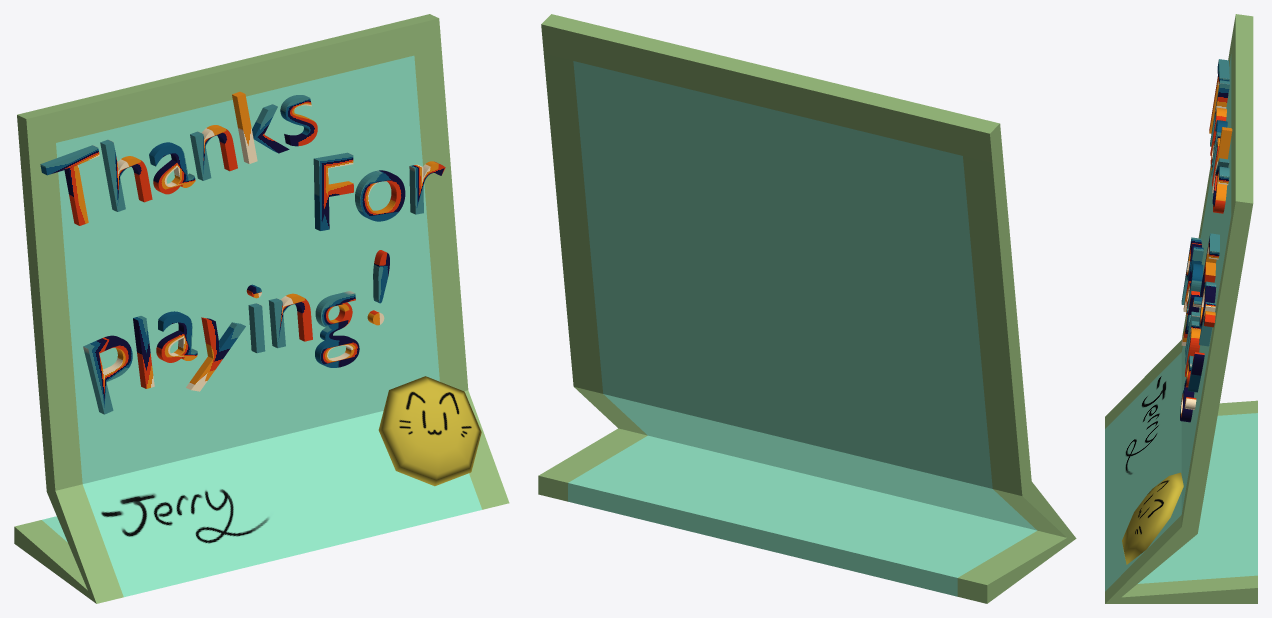
File: EndingSign.glb
3 renders of one model, left to right at view 1: azimuth 30°, elevation 25°; view 2: azimuth 150°, elevation 25°; view 3: azimuth 270°, elevation 25°, orthographic. The views are drawn at different scales.
Parts seen in each view (by area): view 1: Cube, Text, Plane; view 2: Cube; view 3: Cube, Text, Plane.
Part boxes in pixels (x1,y1,x2,y2): Cube: [14, 14, 509, 603]; Text: [40, 91, 445, 414]; Plane: [378, 376, 481, 486]; Cube: [538, 14, 1076, 603]; Cube: [1105, 14, 1257, 603]; Text: [1180, 59, 1232, 422]; Plane: [1122, 472, 1183, 564].
Bounding box in the file's own units: 1 × 1 × 0.3449.
4 materials, 3 textured.
